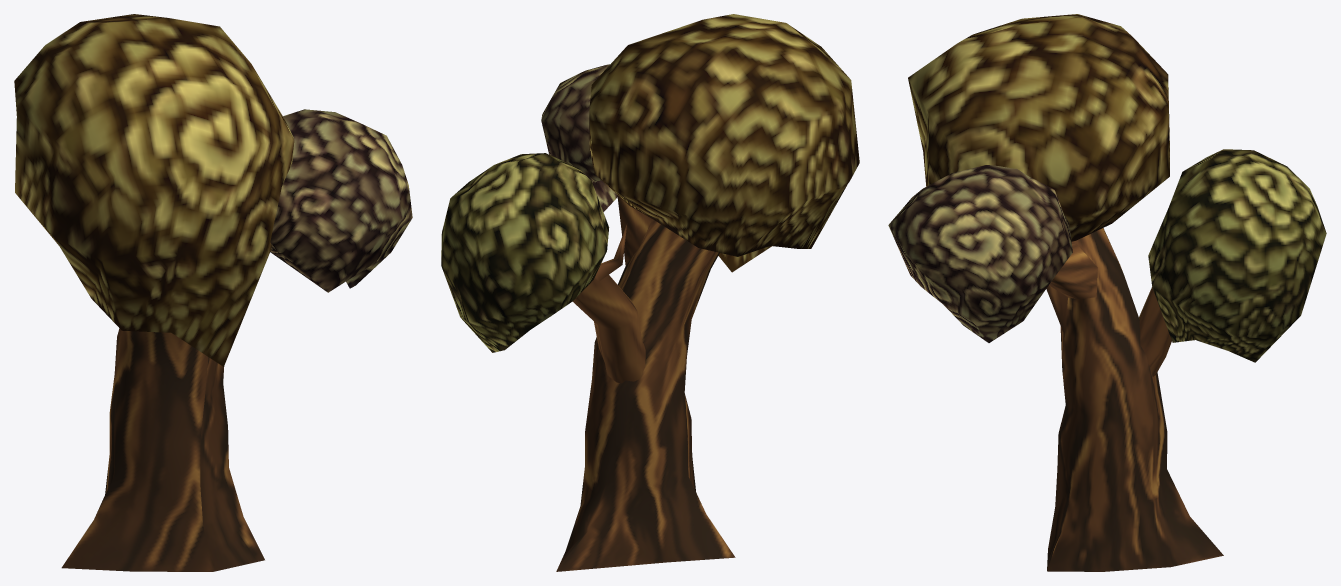
The model's file is Ntree_1_1.fbx.
3 views of the same model, side by side, from view 1: azimuth 30°, elevation 25°; view 2: azimuth 150°, elevation 25°; view 3: azimuth 270°, elevation 25° (orthographic). The views are drawn at different scales.
Visible parts, largest first — view 1: Ntree_1_1; view 2: Ntree_1_1; view 3: Ntree_1_1.
Boxes of the visible parts, x1=… form: Ntree_1_1: x1=14, y1=14, x2=412, y2=571; Ntree_1_1: x1=441, y1=14, x2=859, y2=571; Ntree_1_1: x1=888, y1=14, x2=1326, y2=571.
Size of the model in its own units: 121 by 191 by 154.
